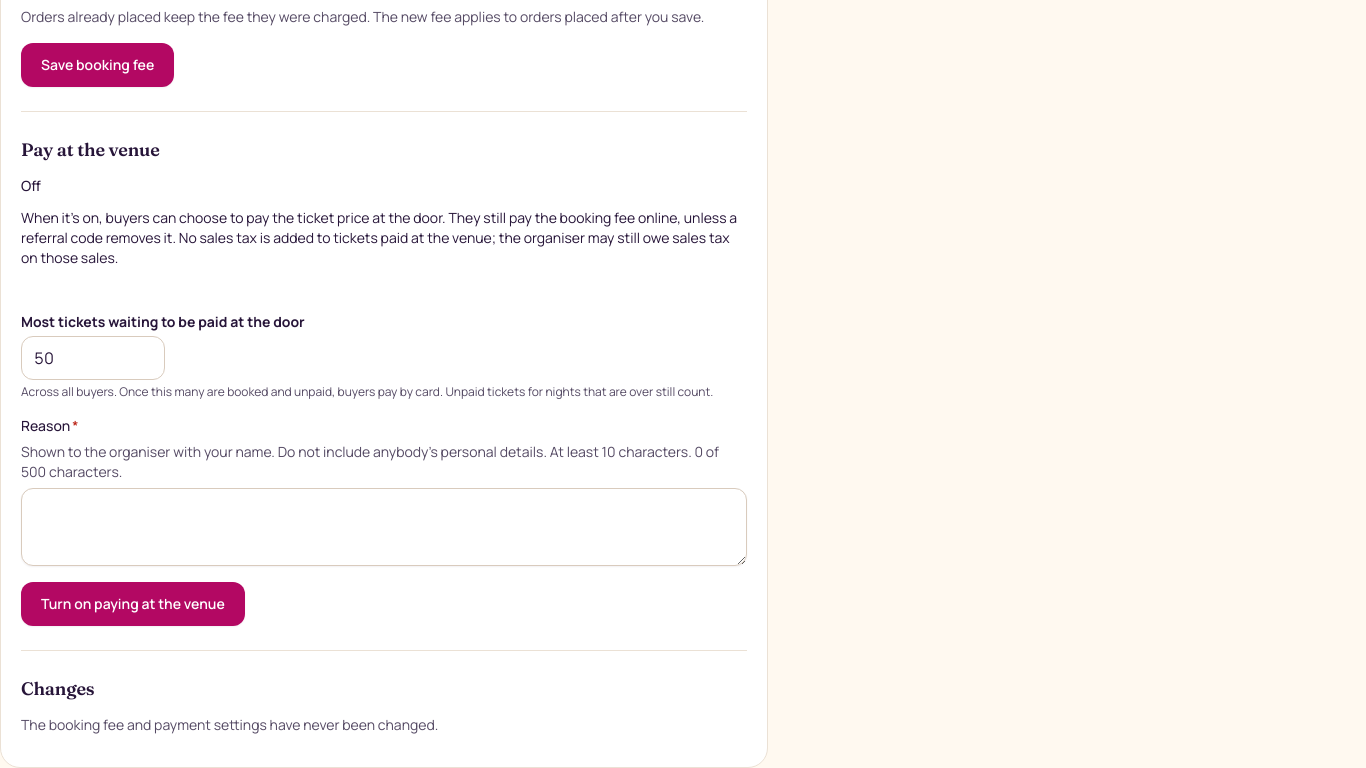
Test: paying at the venue › reads off as "Off", with what it would do, and offers to turn it on
The width and height of the screenshot is (1366, 768).
(page scrolled)
Expected: the text with test id "venue-status" reads "Off", [21,176,41,195]
Expected: the text "When it’s on, buyers can choose to pay the ticket price at the door. They still pay the booking fee online, unless a ref" is shown, [21,208,737,267]
Type "Agreed with the organiser for this launch." into the text box labelled "Reason*" at (384, 527), box [21,488,747,566]
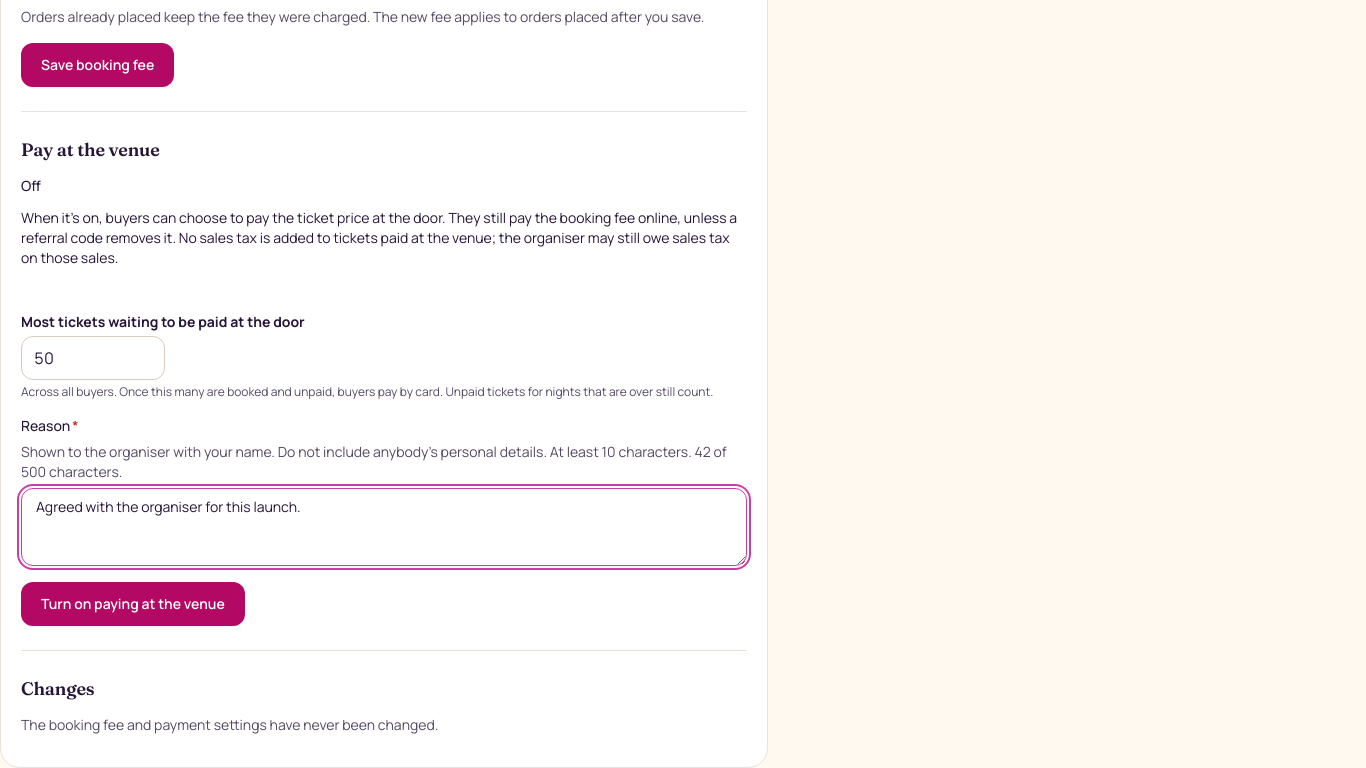
Click the button "Turn on paying at the venue" at (133, 604), box [21,582,245,626]
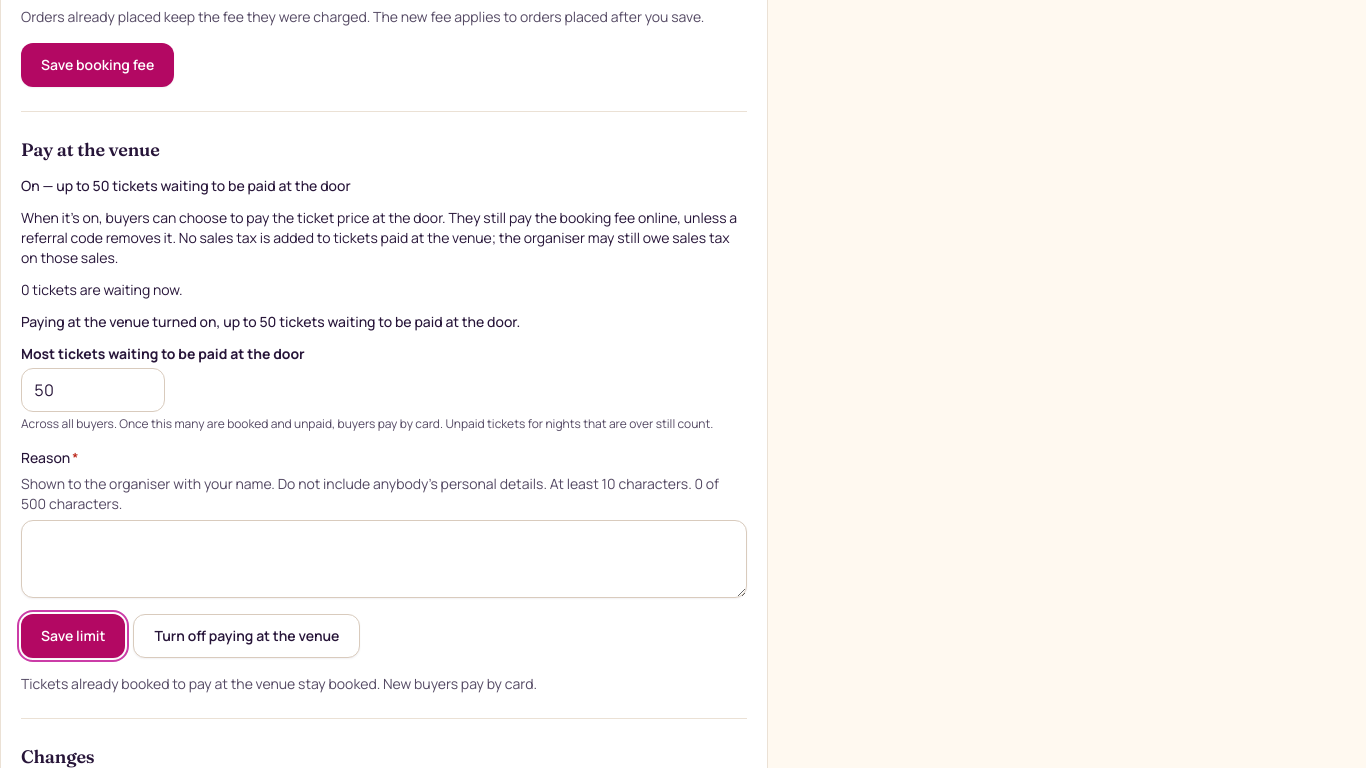
Now the text "Paying at the venue turned on, up to 50 tickets waiting to be paid at the door." is shown, box [21,312,520,331]
